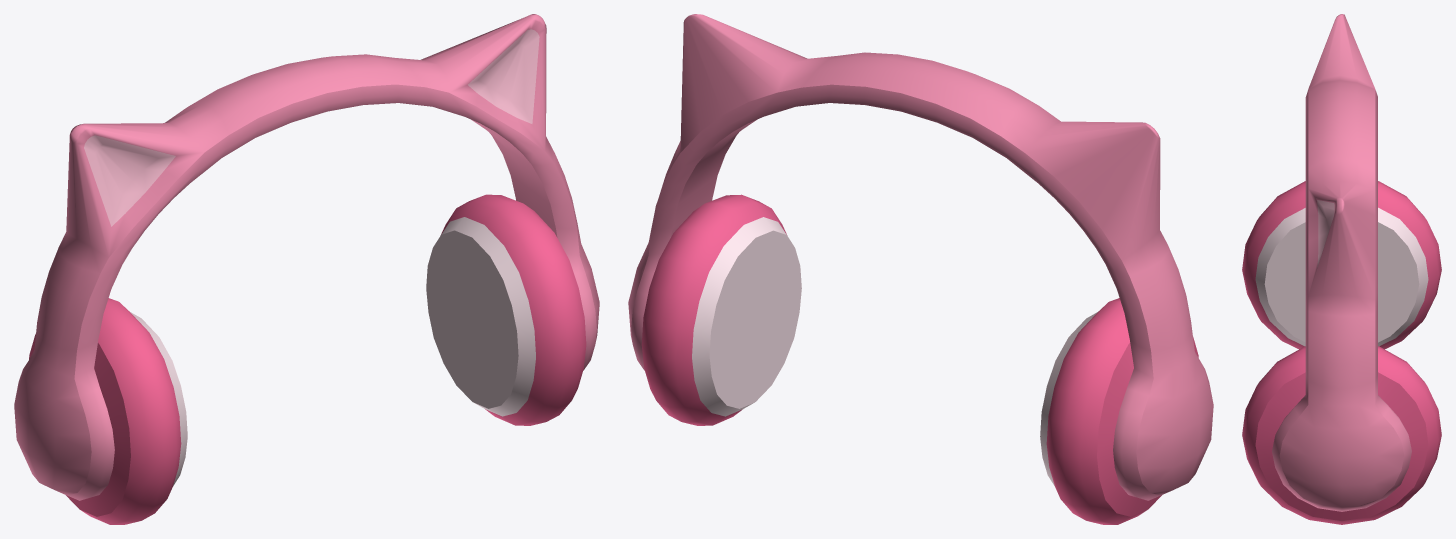
File: uniheadphone.fbx
The picture shows the model from 3 angles, left to right: view 1: azimuth 30°, elevation 25°; view 2: azimuth 150°, elevation 25°; view 3: azimuth 270°, elevation 25°; orthographic projection. The views are drawn at different scales.
Visible parts, largest first — view 1: Uniheadphone; view 2: Uniheadphone; view 3: Uniheadphone.
Part boxes in pixels (x1=…): Uniheadphone: x1=14, y1=14, x2=599, y2=524; Uniheadphone: x1=628, y1=14, x2=1213, y2=524; Uniheadphone: x1=1242, y1=14, x2=1441, y2=524.
Bounding box in the file's own units: 155 × 106 × 57.29.
